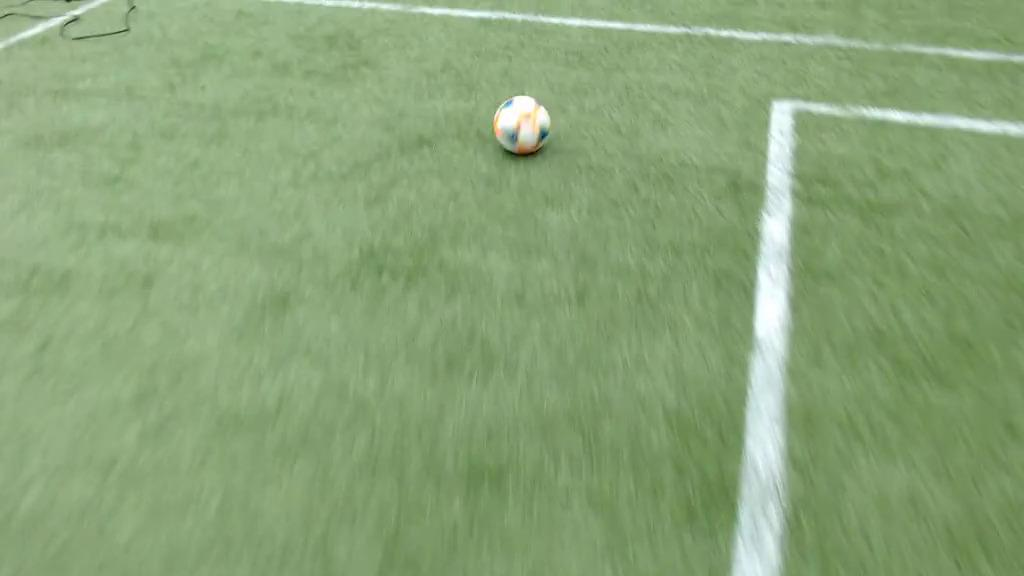ball: (493, 95, 550, 155)
